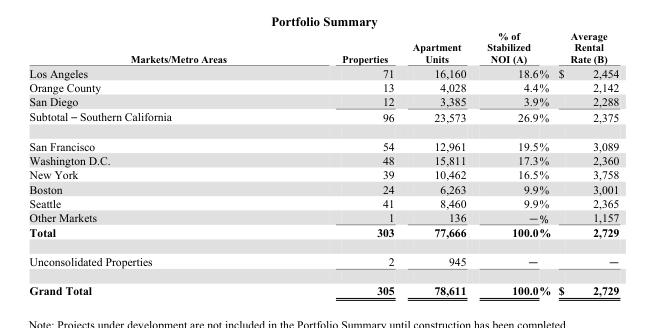table: (28, 29, 618, 296)
table column: (28, 29, 283, 296), (283, 29, 402, 296), (475, 29, 553, 296), (402, 29, 475, 296), (553, 29, 618, 296)
table column header: (28, 29, 618, 65)
table row: (28, 29, 618, 65), (28, 246, 618, 276), (28, 108, 618, 131), (28, 224, 618, 246), (28, 131, 618, 152), (28, 276, 618, 296), (28, 79, 618, 94), (28, 152, 618, 167), (28, 195, 618, 210), (28, 65, 618, 79), (28, 94, 618, 108), (28, 167, 618, 181), (28, 181, 618, 195), (28, 210, 618, 224)
